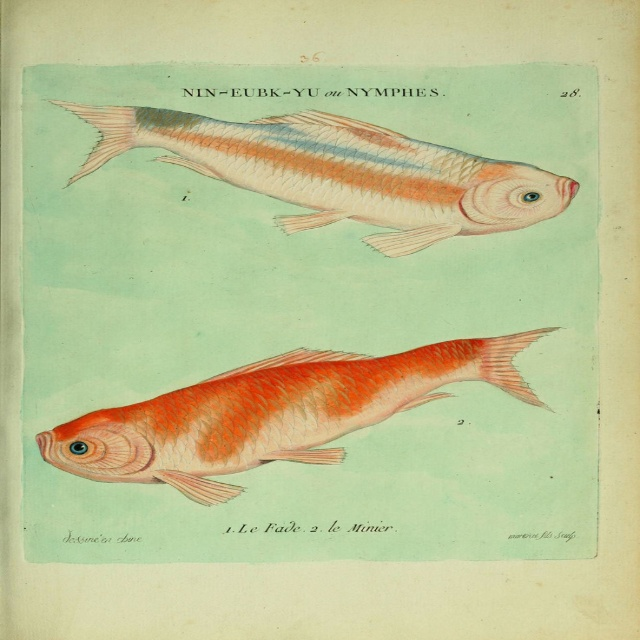Goldfish: (56, 322, 563, 505), (40, 97, 581, 260)
